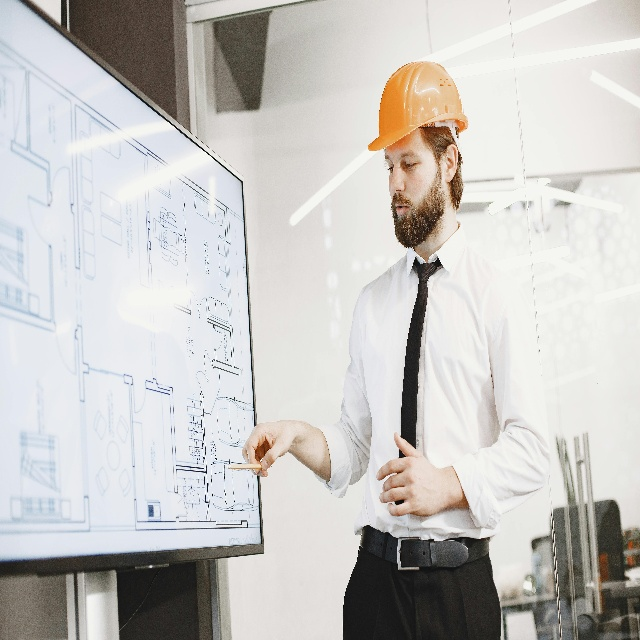Sin_guantes: (374, 430, 445, 520), (241, 416, 295, 480)
